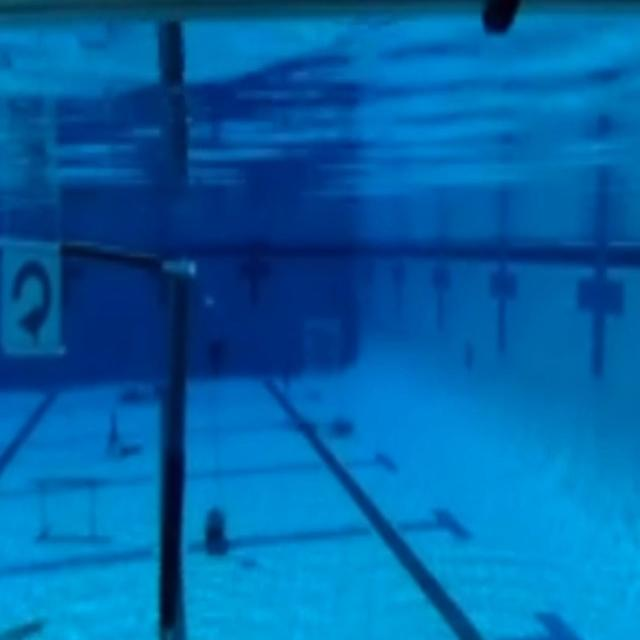Gate: (2, 223, 192, 635)
